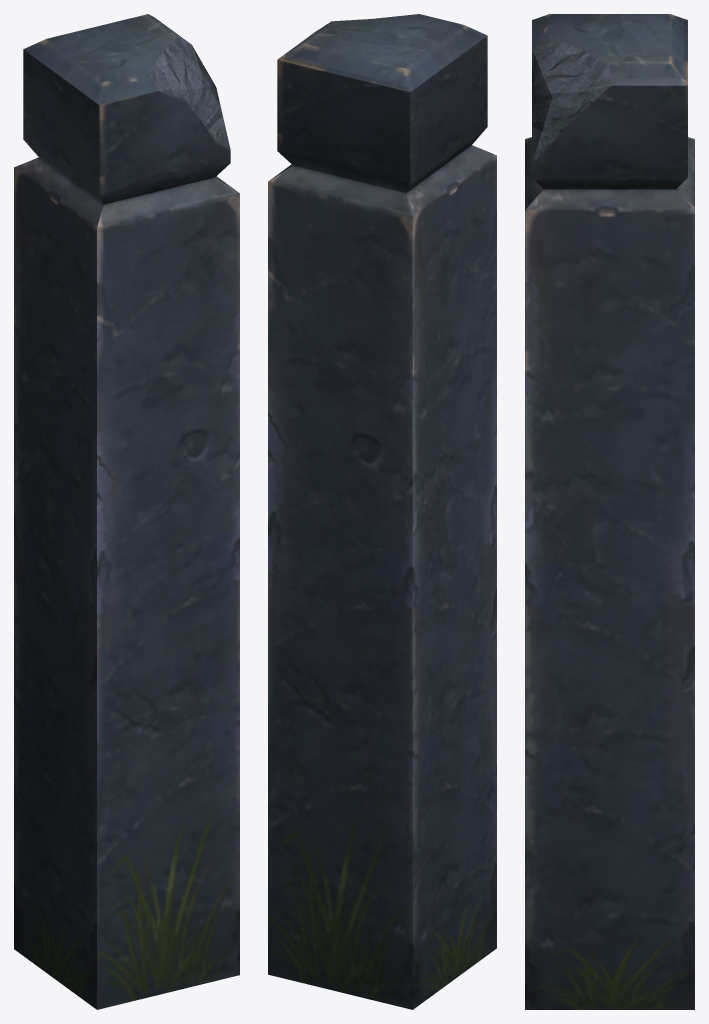
Rendered from HuBian_NightRailing03_FBX.FBX.
3 views of the same model, side by side, from view 1: azimuth 30°, elevation 25°; view 2: azimuth 150°, elevation 25°; view 3: azimuth 270°, elevation 25° (orthographic). The views are drawn at different scales.
Parts seen in each view (by area): view 1: HuBian_NightRailing03_FBX; view 2: HuBian_NightRailing03_FBX; view 3: HuBian_NightRailing03_FBX.
Boxes of the visible parts, bbox=[...] form: HuBian_NightRailing03_FBX: bbox=[14, 14, 239, 1009]; HuBian_NightRailing03_FBX: bbox=[268, 14, 496, 1009]; HuBian_NightRailing03_FBX: bbox=[525, 14, 694, 1009].
Bounding box in the file's own units: 0.1988 × 1.22 × 0.2.
